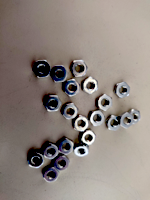nut: (33, 60, 51, 79), (61, 103, 79, 121), (51, 66, 68, 83), (71, 61, 88, 78), (44, 96, 61, 113), (73, 116, 90, 133), (83, 77, 99, 95), (27, 153, 45, 169), (87, 111, 106, 126), (114, 83, 131, 99), (97, 95, 113, 112), (58, 139, 75, 155), (64, 80, 80, 96), (43, 144, 59, 160), (107, 114, 122, 131), (43, 168, 60, 183), (120, 112, 134, 130), (55, 156, 70, 172), (80, 131, 96, 145), (75, 144, 90, 158), (131, 109, 141, 126)
